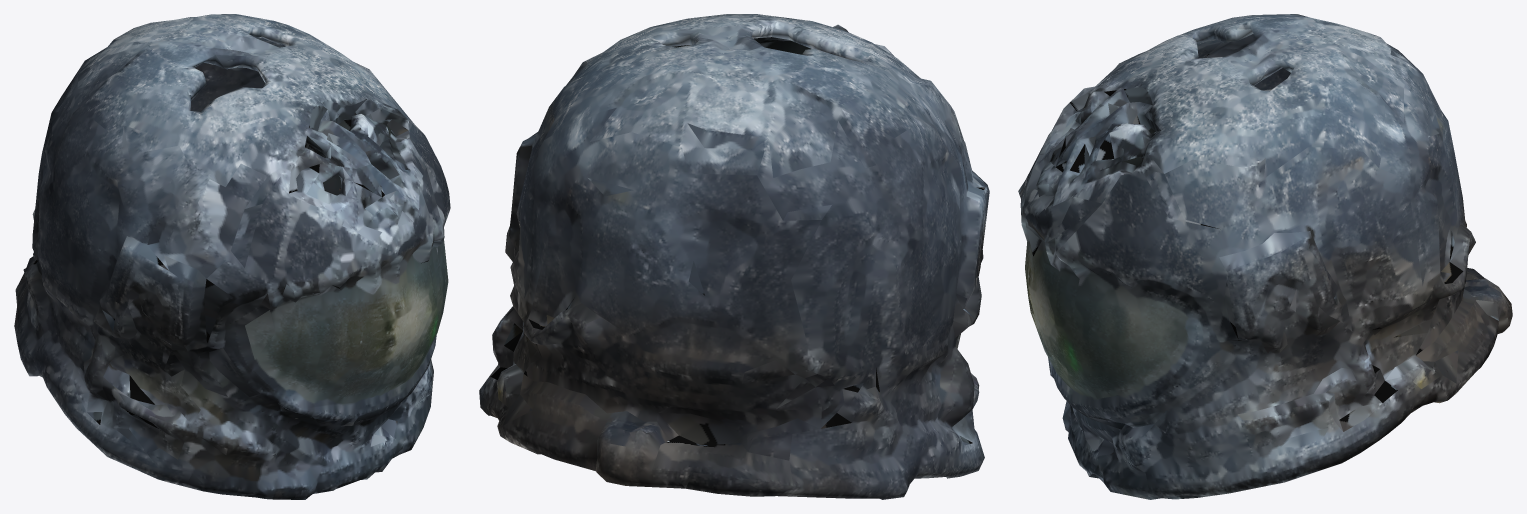
The model's file is wreck_hull.glb.
3 renders of one model, left to right at view 1: azimuth 30°, elevation 25°; view 2: azimuth 150°, elevation 25°; view 3: azimuth 270°, elevation 25°, orthographic. The views are drawn at different scales.
Visible parts, largest first — view 1: low; view 2: low; view 3: low.
Boxes of the visible parts, box(x1,y1,x2,y2) form: low: box(14, 14, 450, 499); low: box(479, 14, 989, 499); low: box(1018, 14, 1512, 499).
Bounding box in the file's own units: 8.72 × 8.95 × 10.
1 material, 1 textured.
